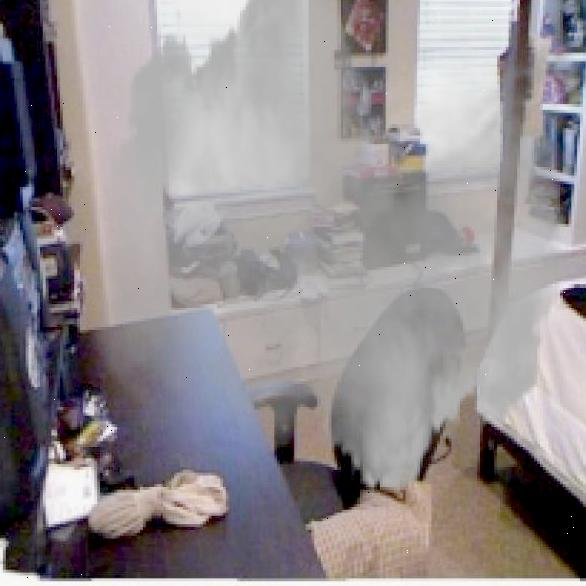smoke: (80, 0, 586, 510)
